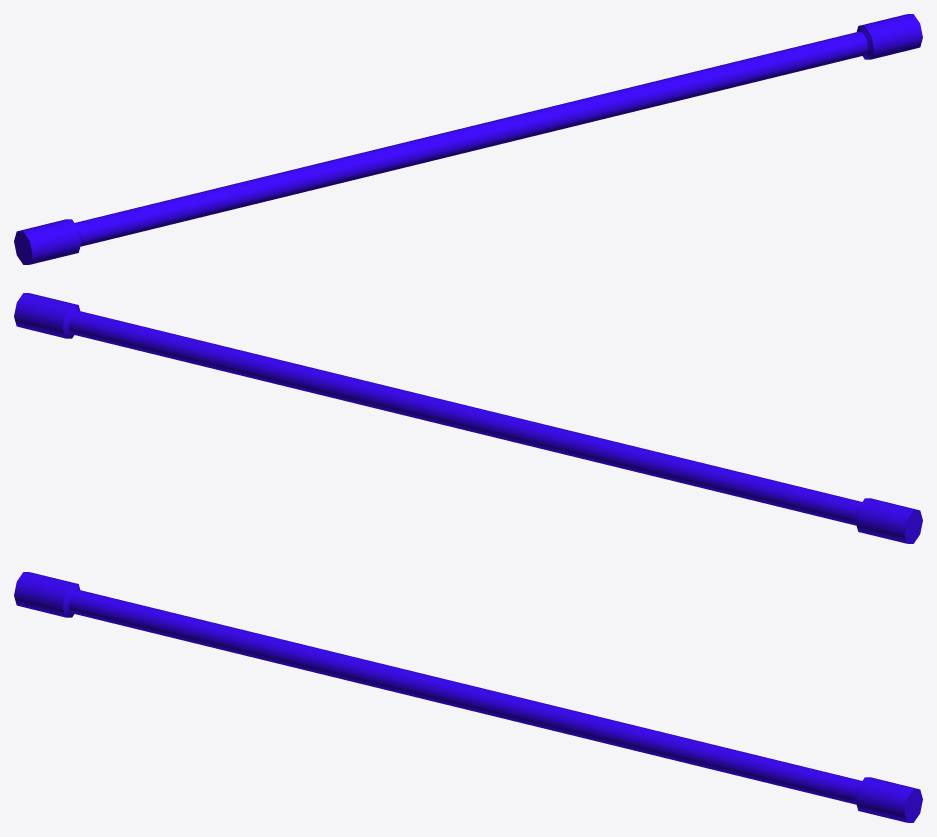
Rendered from office_pack_curtainPole_1_meshCollider.fbx.
The picture shows the model from 3 angles, top to bottom: view 1: azimuth 30°, elevation 25°; view 2: azimuth 150°, elevation 25°; view 3: azimuth 330°, elevation 25°; orthographic projection.
Parts seen in each view (by area): view 1: office_pack_curtainPole_1_meshCollider; view 2: office_pack_curtainPole_1_meshCollider; view 3: office_pack_curtainPole_1_meshCollider.
Boxes of the visible parts, box(x1,y1,x2,y2) form: office_pack_curtainPole_1_meshCollider: box(14, 14, 922, 264); office_pack_curtainPole_1_meshCollider: box(14, 293, 922, 543); office_pack_curtainPole_1_meshCollider: box(14, 572, 922, 822).
Bounding box in the file's own units: 174 × 6.29 × 6.29.
